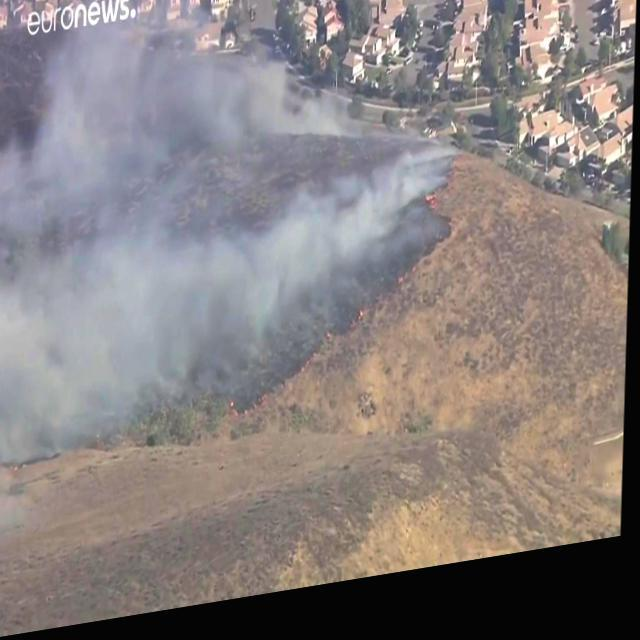Fire: (425, 204, 438, 224)
